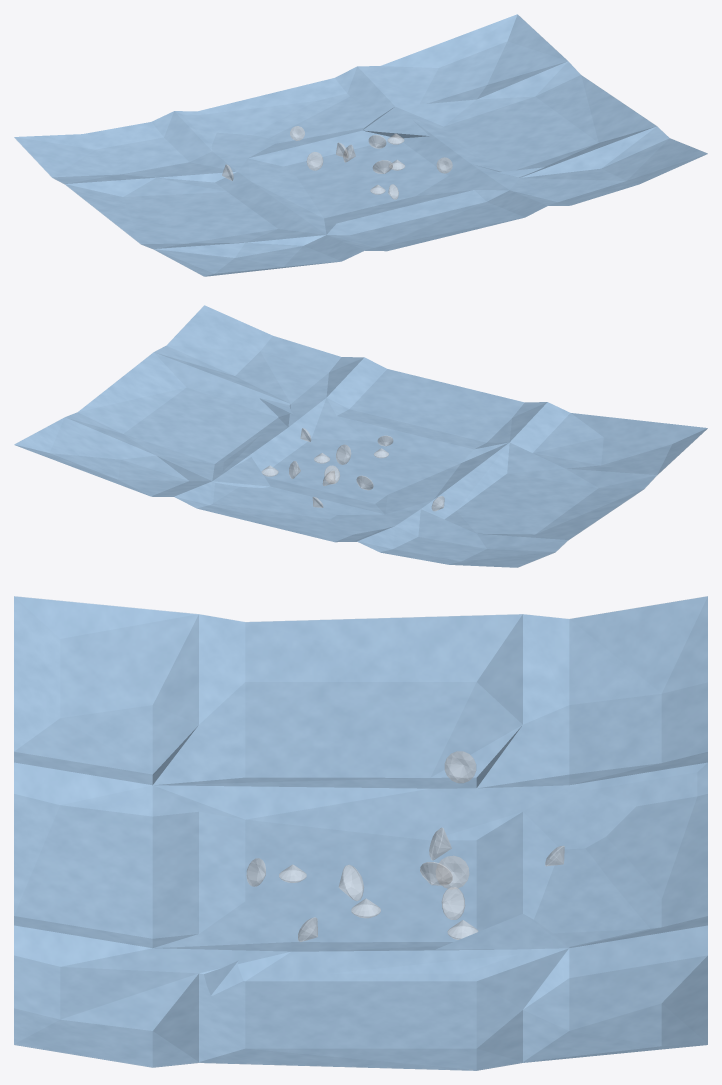
Rendered from GemParcel_LOD1.obj.
The picture shows the model from 3 angles, top to bottom: view 1: azimuth 30°, elevation 25°; view 2: azimuth 150°, elevation 25°; view 3: azimuth 270°, elevation 25°; orthographic projection. The views are drawn at different scales.
Parts seen in each view (by area): view 1: GemPaper, Diamond; view 2: GemPaper, Diamond; view 3: GemPaper, Diamond.
Part boxes in pixels (x1,y1,x2,y2): GemPaper: (14, 14, 707, 276); Diamond: (222, 126, 452, 199); GemPaper: (14, 305, 707, 567); Diamond: (261, 428, 444, 511); GemPaper: (14, 596, 707, 1070); Diamond: (246, 751, 564, 941).
Size of the model in its own units: 0.11 by 0.0071 by 0.072.
2 materials, 1 textured.
